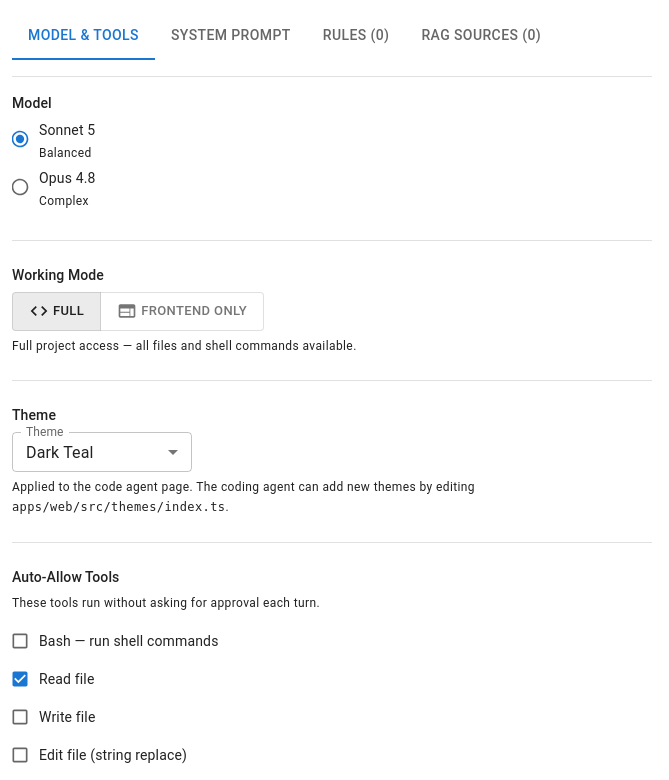
AgentConfigEditor › describes full working mode by default and switches to frontend-only copy on toggle
Expected: the text "Full project access" is shown, [12,338,357,352]
Click the button "Frontend Only". click: click(182, 311)
box: [100,292,264,331]
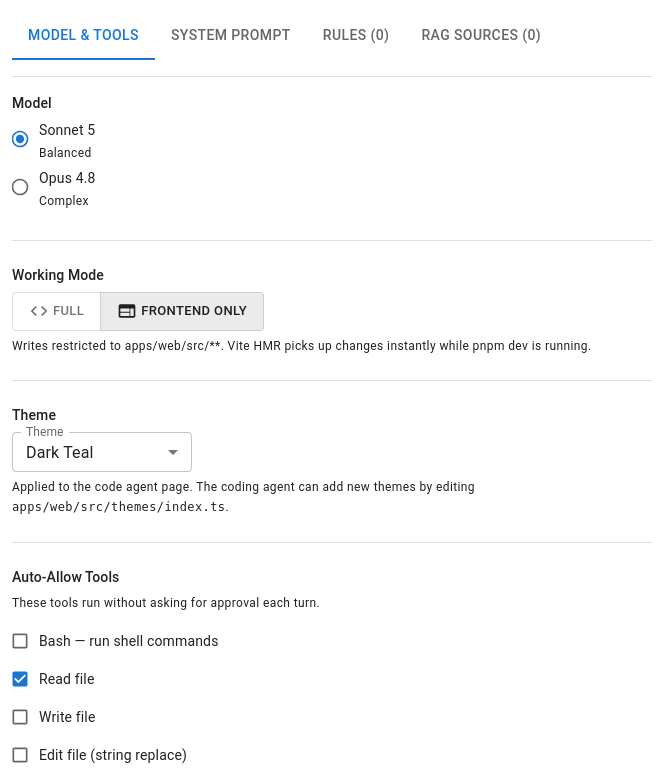
Expected: the text "Writes restricted to apps/web/src" is shown, [12,338,592,352]
